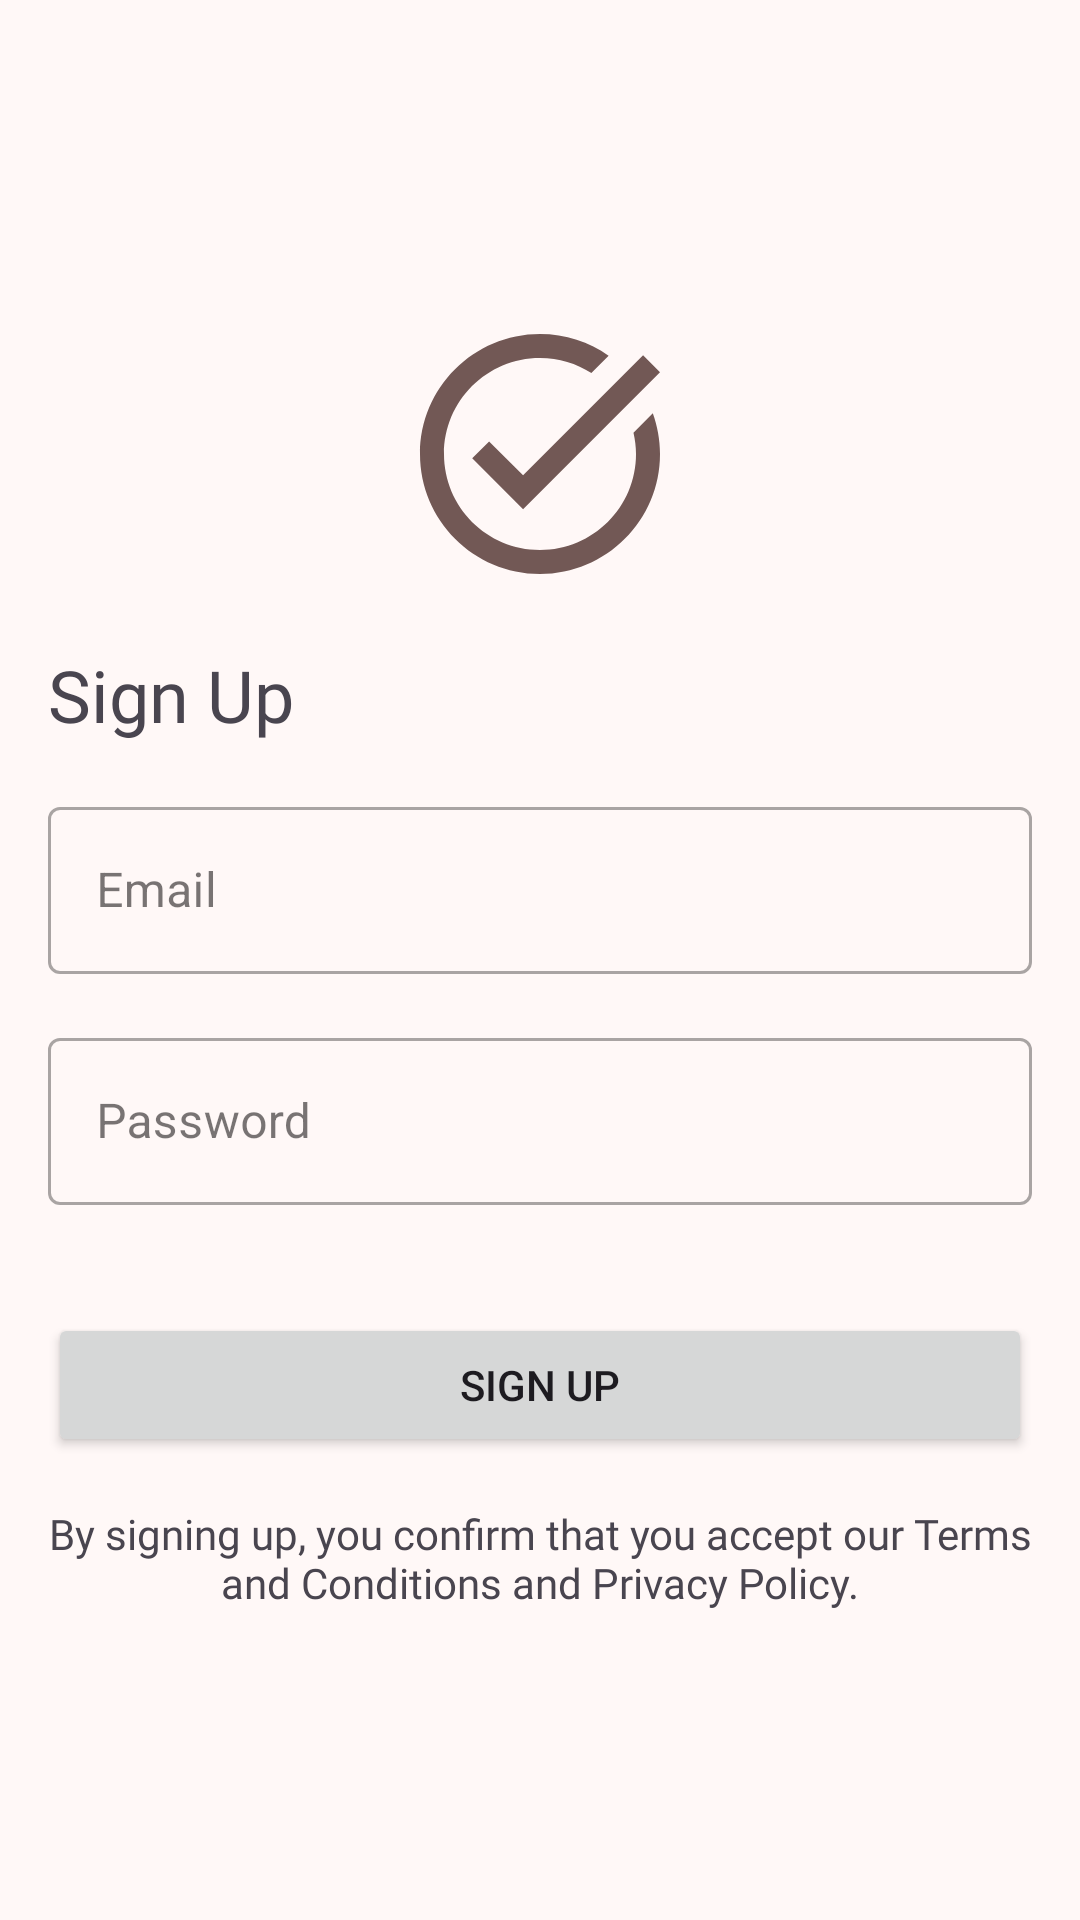

Icon click points for this 1080w x 1920h phone screenshot, format [x,y]:
task: [540,454]
